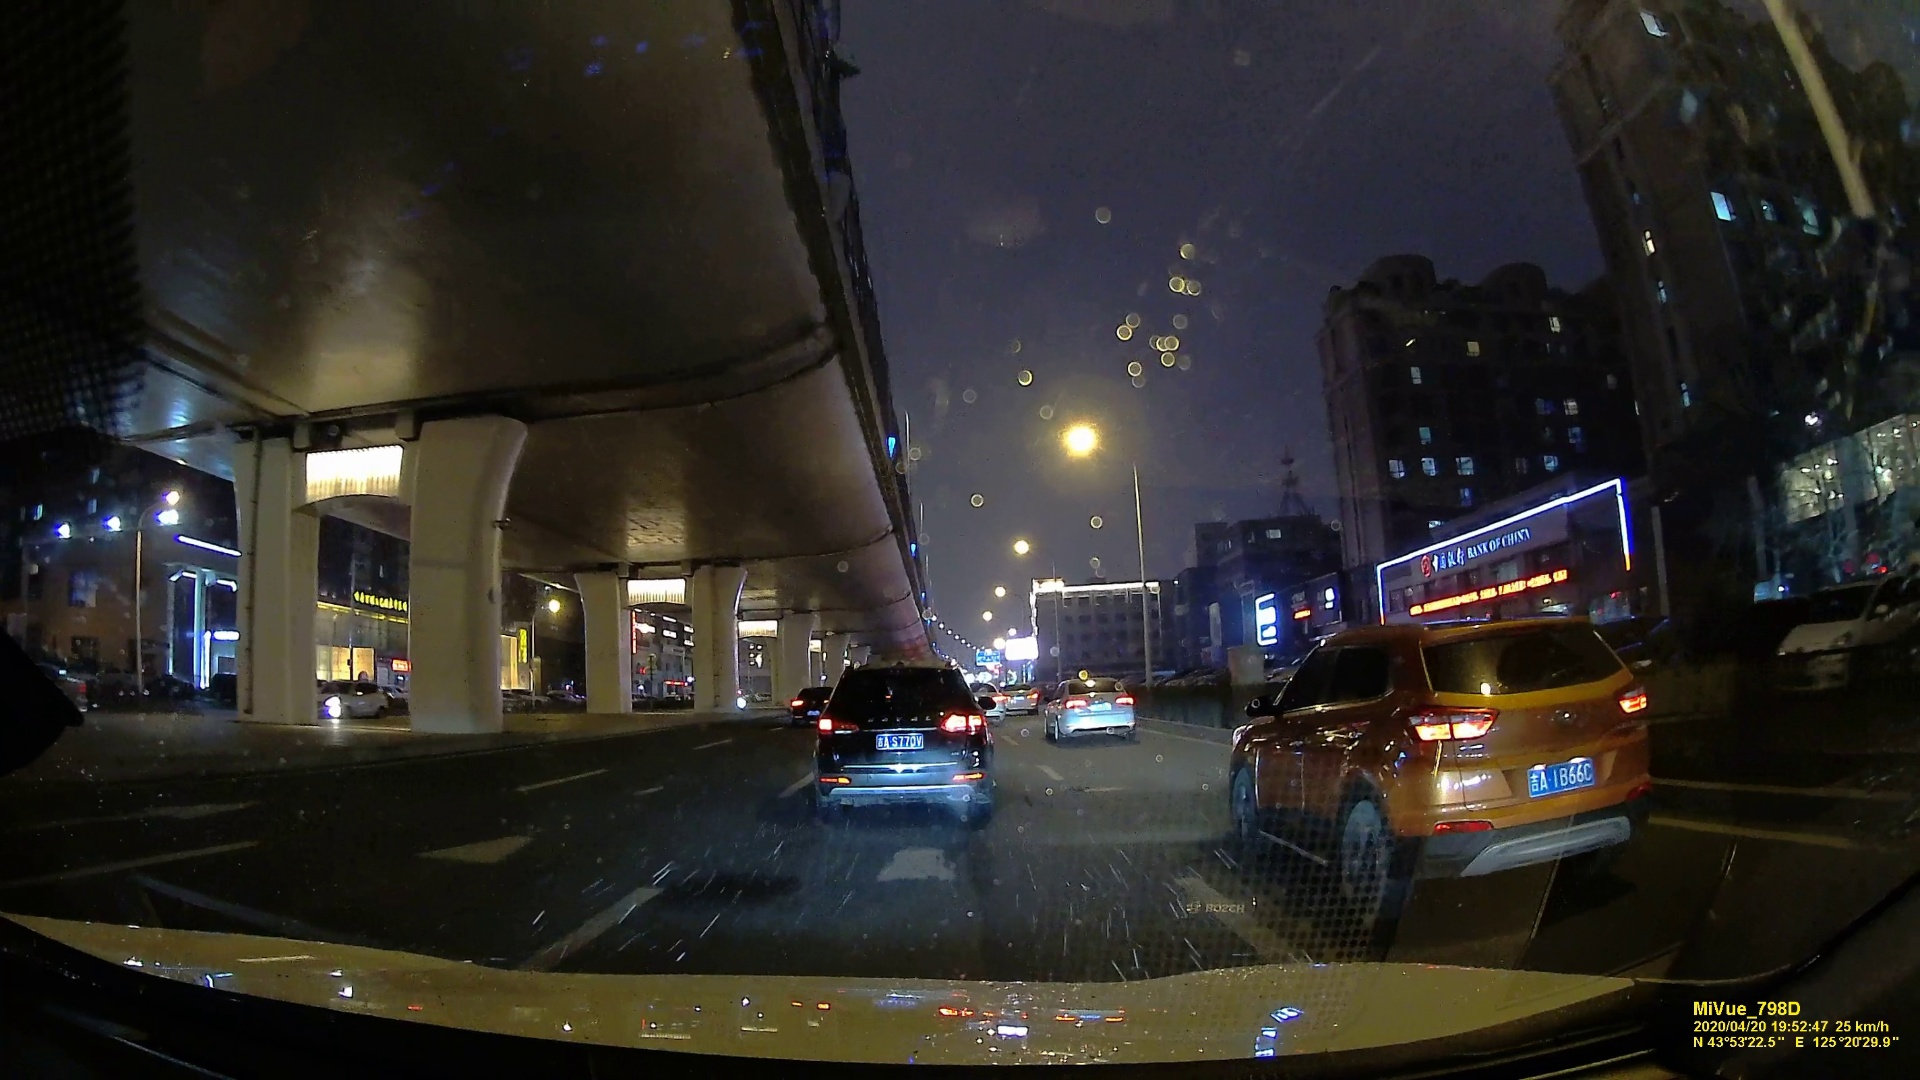vehicle: (1236, 607, 1648, 899), (807, 662, 992, 825), (1043, 684, 1135, 741), (309, 682, 390, 719), (785, 686, 825, 724), (1000, 686, 1039, 715)
